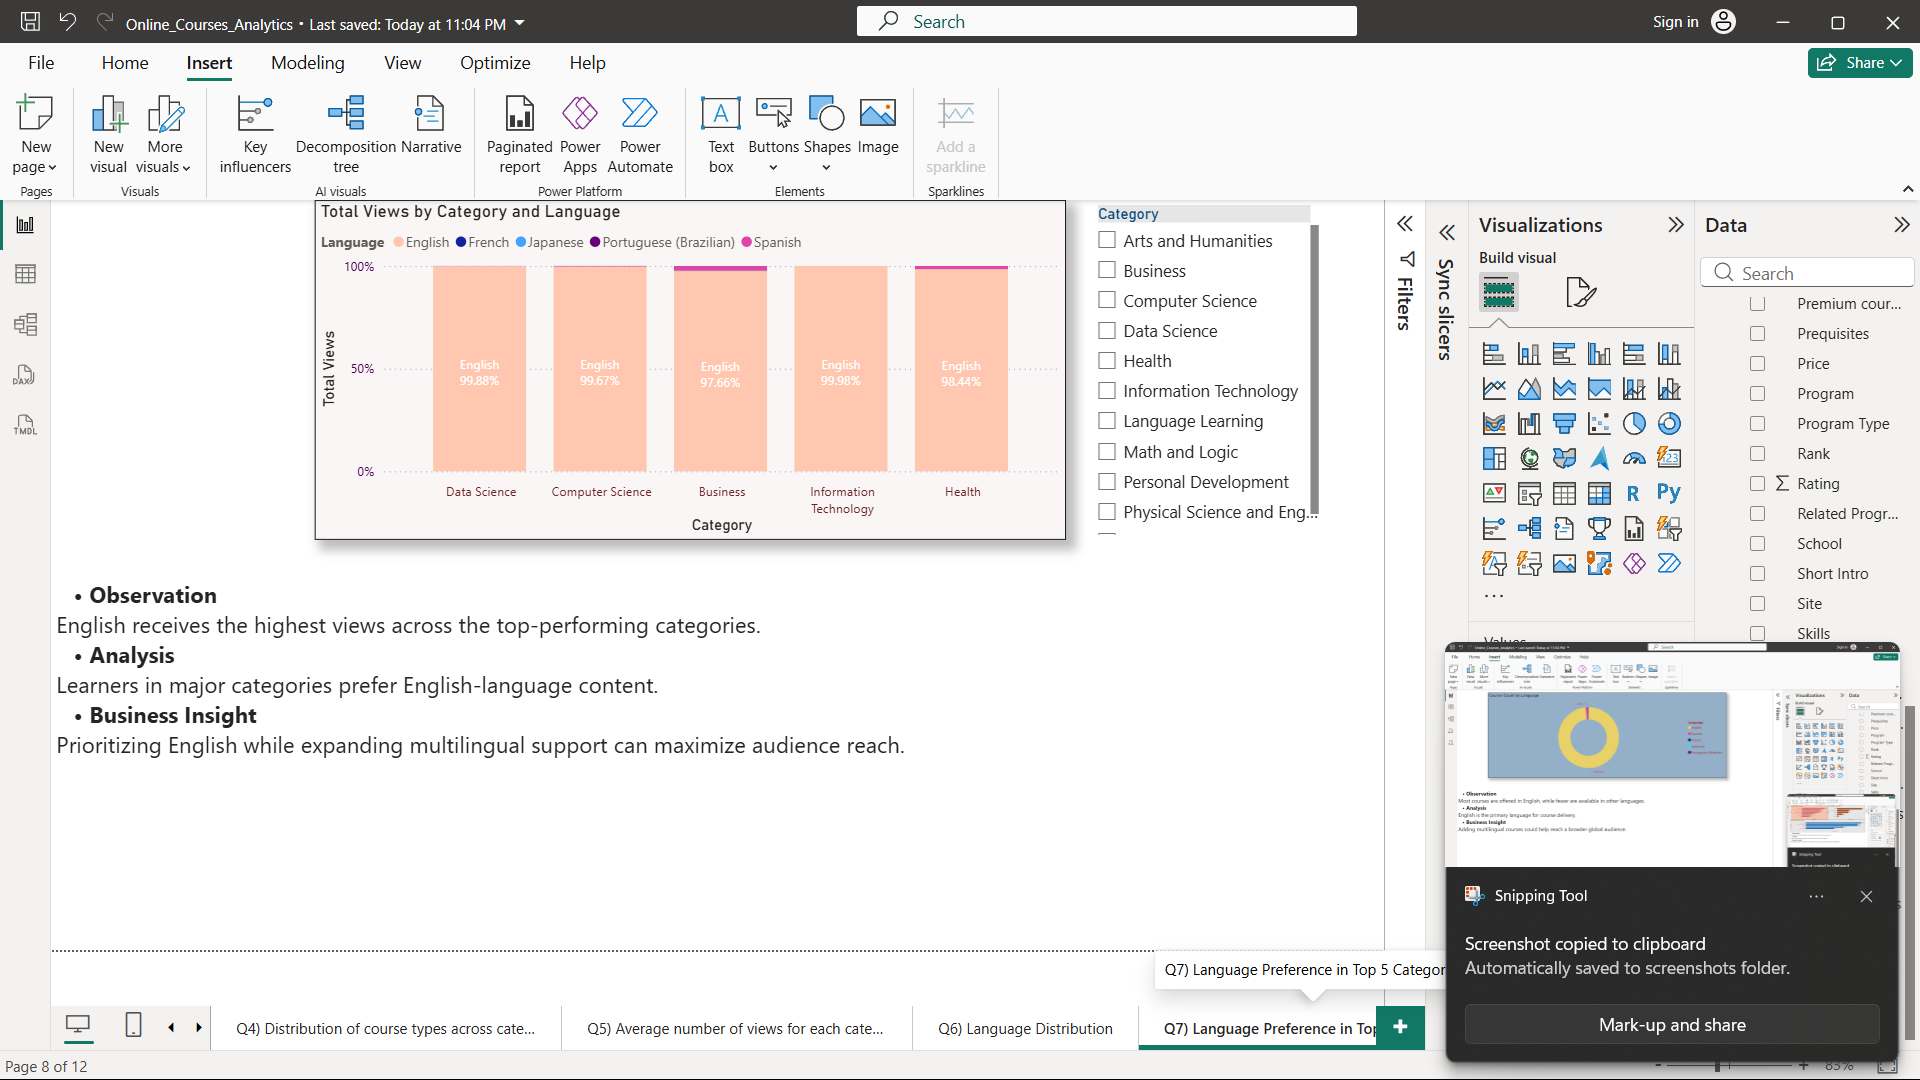

Layout of this report page (visuals, bound fields, positions):
{"tool":"powerbi","page":{"name":"Q7) Language Preference in Top 5 Categories","canvas":[1280,720],"ordinal":7},"visuals":[{"type":"hundredPercentStackedColumnChart","fields":{"Y":["Online_Courses.Total Views"],"Category":["Online_Courses.Category"],"Series":["Online_Courses.Language"]},"box":[253.9,0,721.8,326.6],"z":0},{"type":"textbox","box":[0,359.5,838.4,201.7],"z":1000},{"type":"slicer","fields":{"Values":["Online_Courses.Category"]},"box":[992.7,0,229.5,326.8],"z":2000}]}

Visuals, with their boxes on the page's 1280x720 design canvas (x1, y1, x2, y2). These are canvas units, not pixel positions in the 1920x1080 screenshot, which may show the page scaled, cropped or inside an application window:
hundredPercentStackedColumnChart - Online_Courses.Total Views x Online_Courses.Category: <region>254, 0, 976, 327</region>
textbox: <region>0, 360, 838, 561</region>
slicer - Online_Courses.Category: <region>993, 0, 1222, 327</region>
